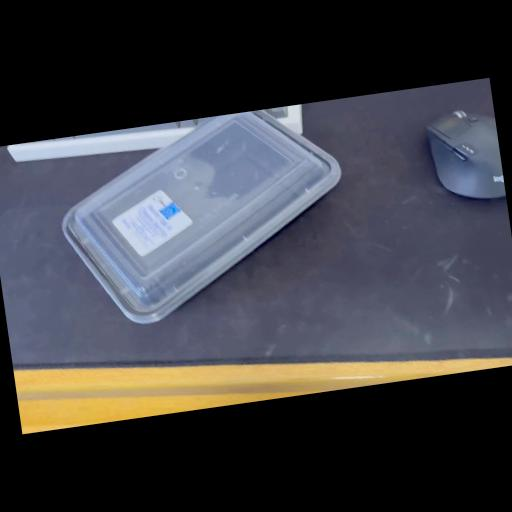rigid_plastic_container: (46, 100, 358, 332)
